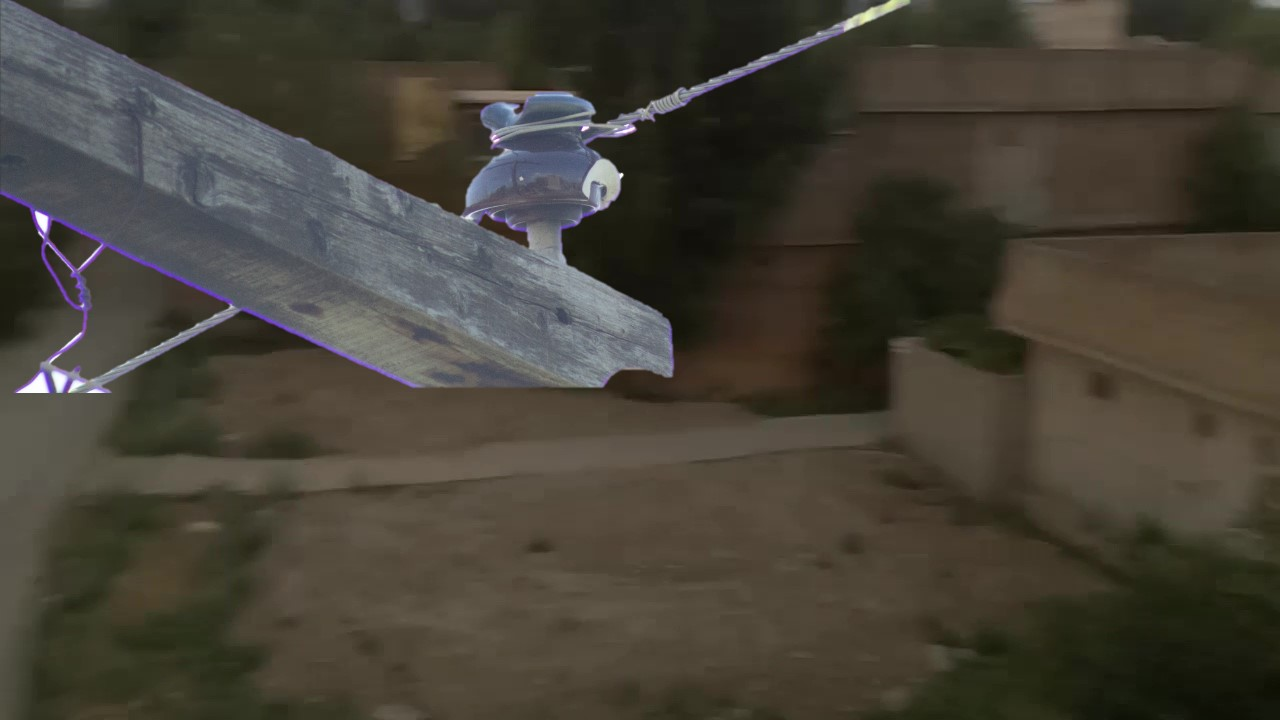defect_pin: (460, 85, 634, 239)
